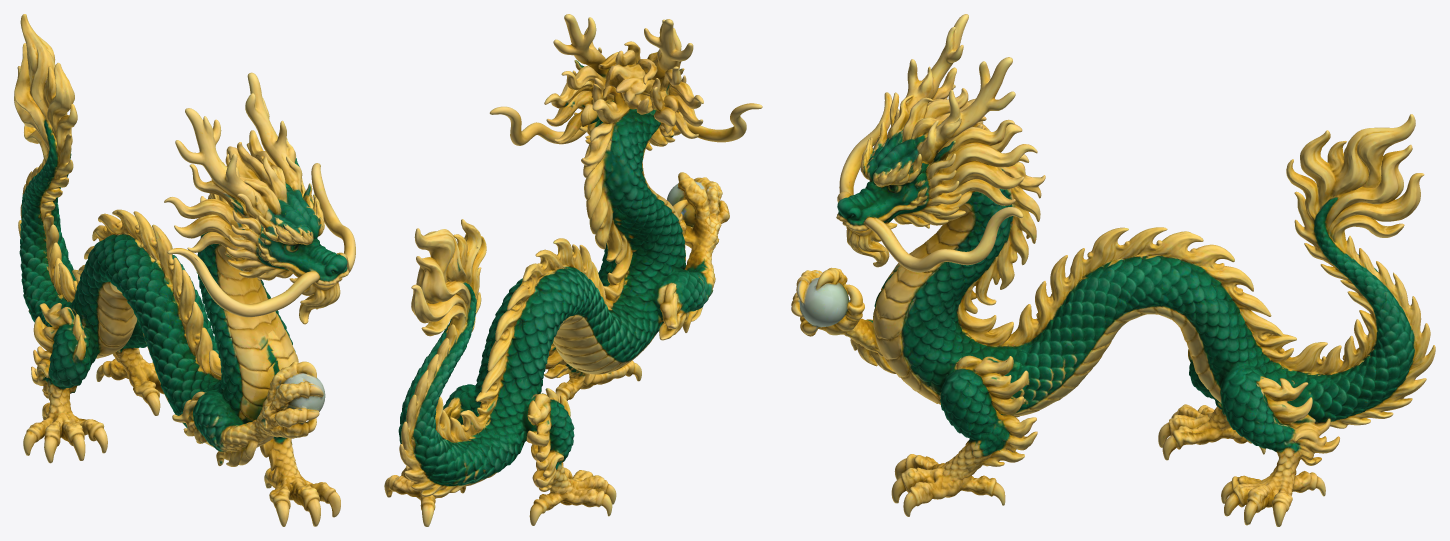
File: preview.glb
3 renders of one model, left to right at view 1: azimuth 30°, elevation 25°; view 2: azimuth 150°, elevation 25°; view 3: azimuth 270°, elevation 25°, orthographic. The views are drawn at different scales.
Parts seen in each view (by area): view 1: chinese-dragon; view 2: chinese-dragon; view 3: chinese-dragon.
Part boxes in pixels (x1=…): chinese-dragon: x1=14, y1=14, x2=355, y2=526; chinese-dragon: x1=384, y1=14, x2=762, y2=526; chinese-dragon: x1=791, y1=14, x2=1435, y2=526.
Size of the model in its own units: 3.27 by 6.06 by 8.
1 material, 1 textured.
